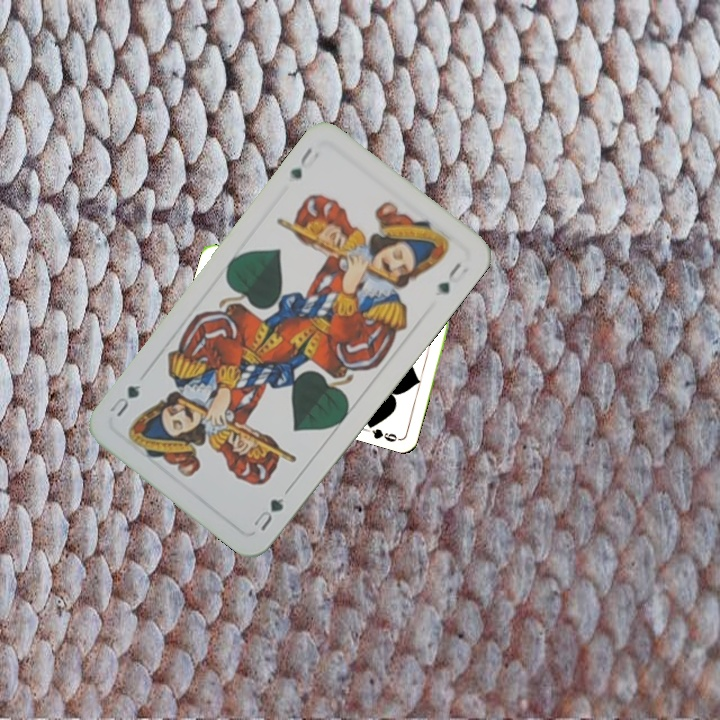GU: (249, 485, 292, 534), (286, 142, 316, 182)
